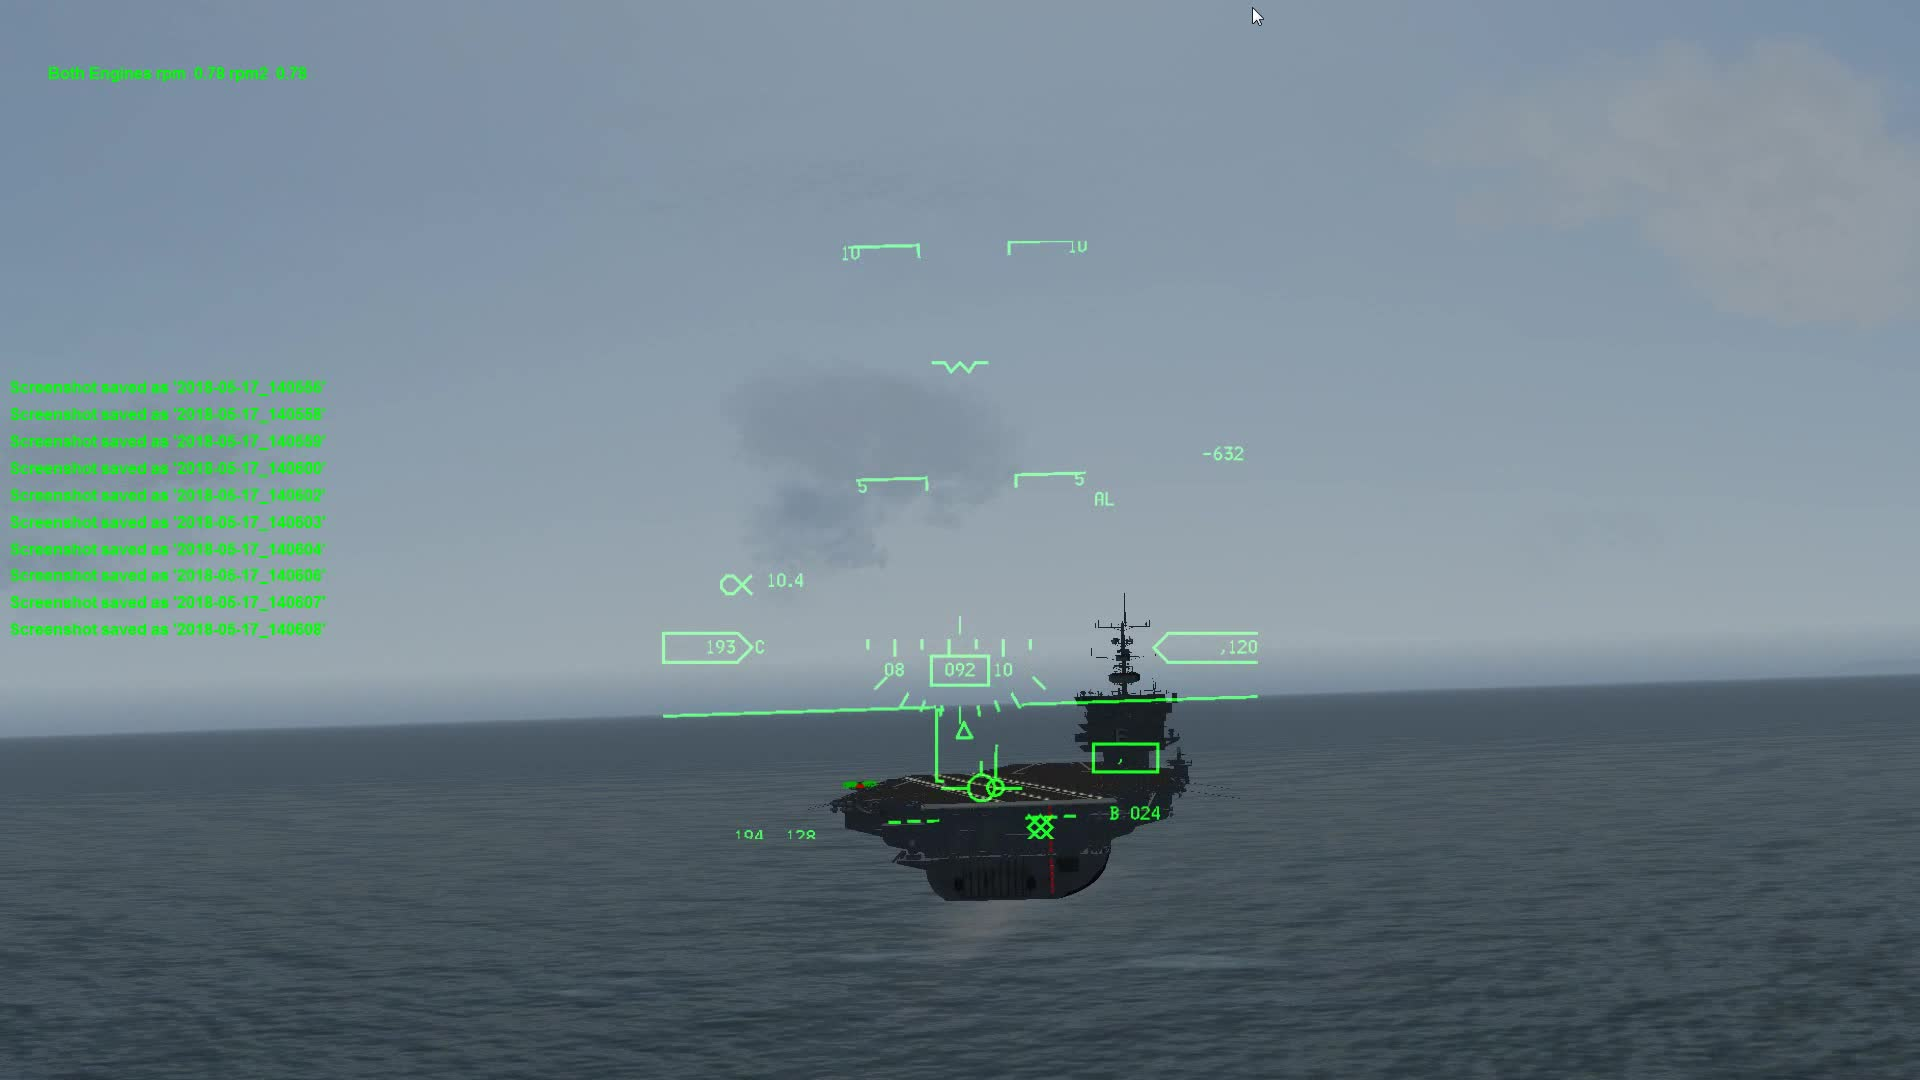speed vector: (935, 756, 1015, 803)
